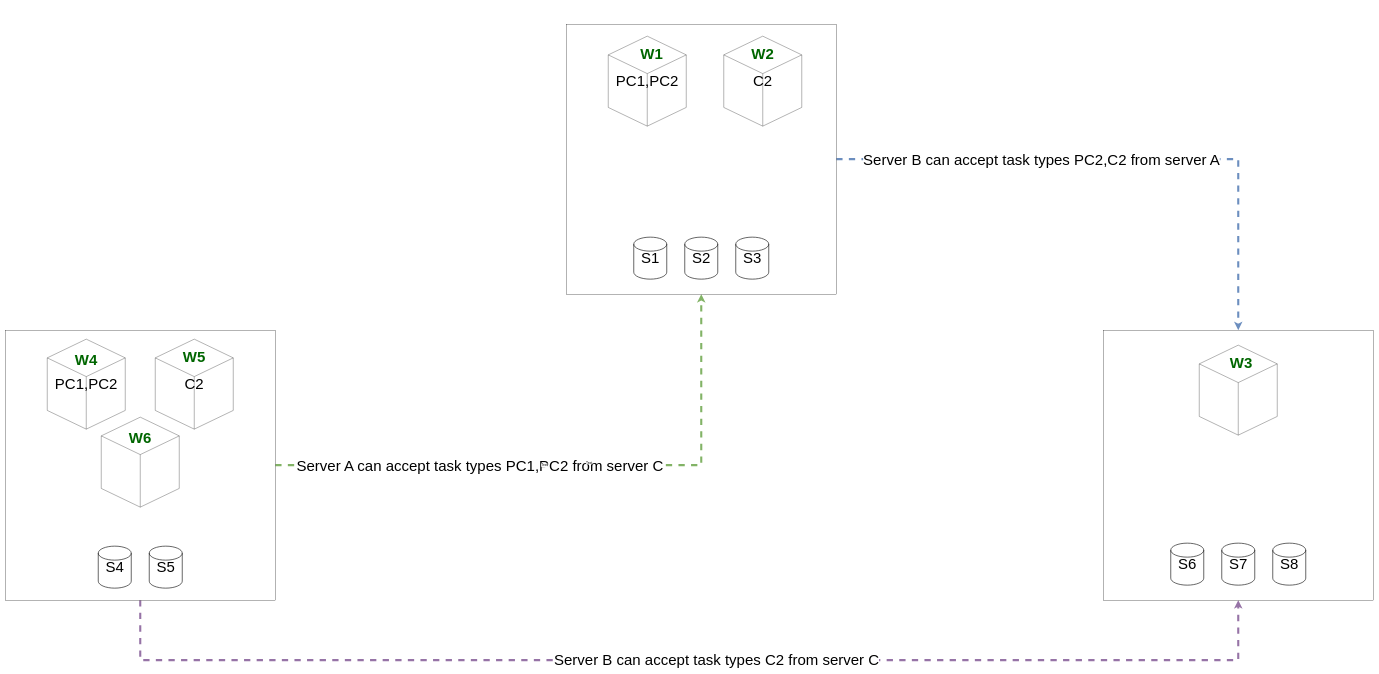
The diagram is 1379 pixels wide and 674 high, and some of its shapes have lost their labels. The shapes that lost their labels are listed below. From the top down, each one's box as (x1, y1, x2, y2) in pixels, then its label:
(566, 24, 836, 294): Server A
(1199, 345, 1277, 435): PC2,C2
(101, 417, 179, 507): PC2
(5, 330, 275, 600): Server C
(1103, 330, 1373, 600): Server B
